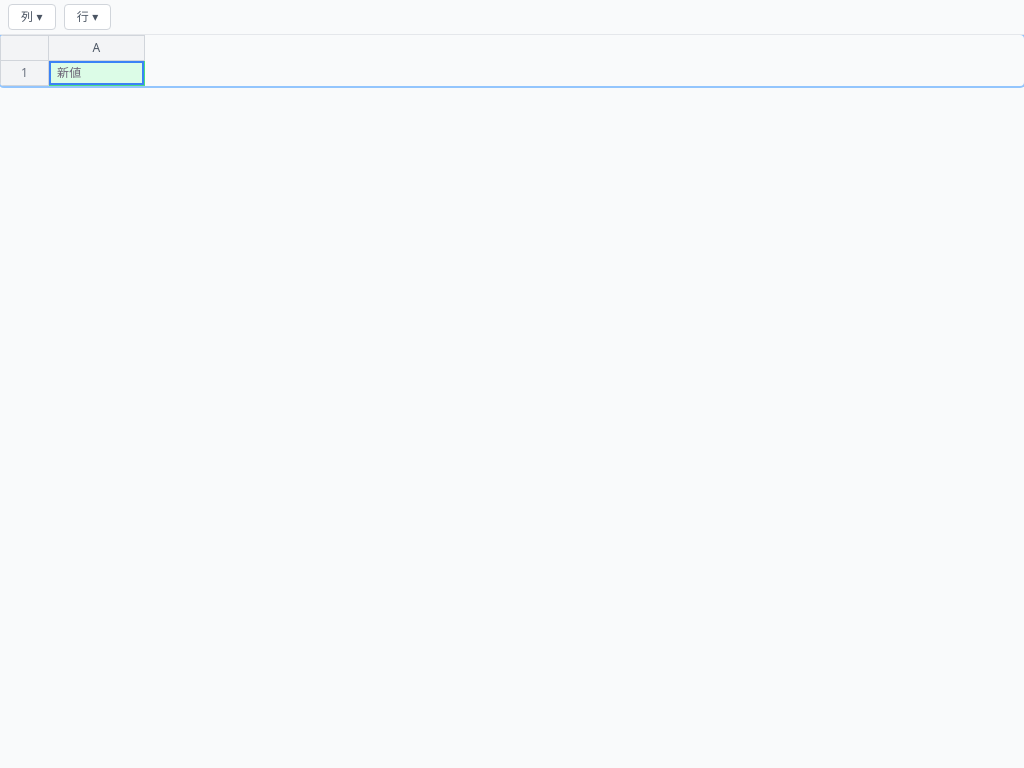
Test: B-032: 詳細モーダルのサイズ固定とセル表示の統一 › 2ファイル比較で Base と B の2セルが常に表示される（base_value が null でも）
This screenshot has width=1024, height=768.
What coordinates should you click on to do the following:
click the cell "新値"
I would click on:
 (96, 73)
Its box is x1=48 y1=60 x2=144 y2=86.
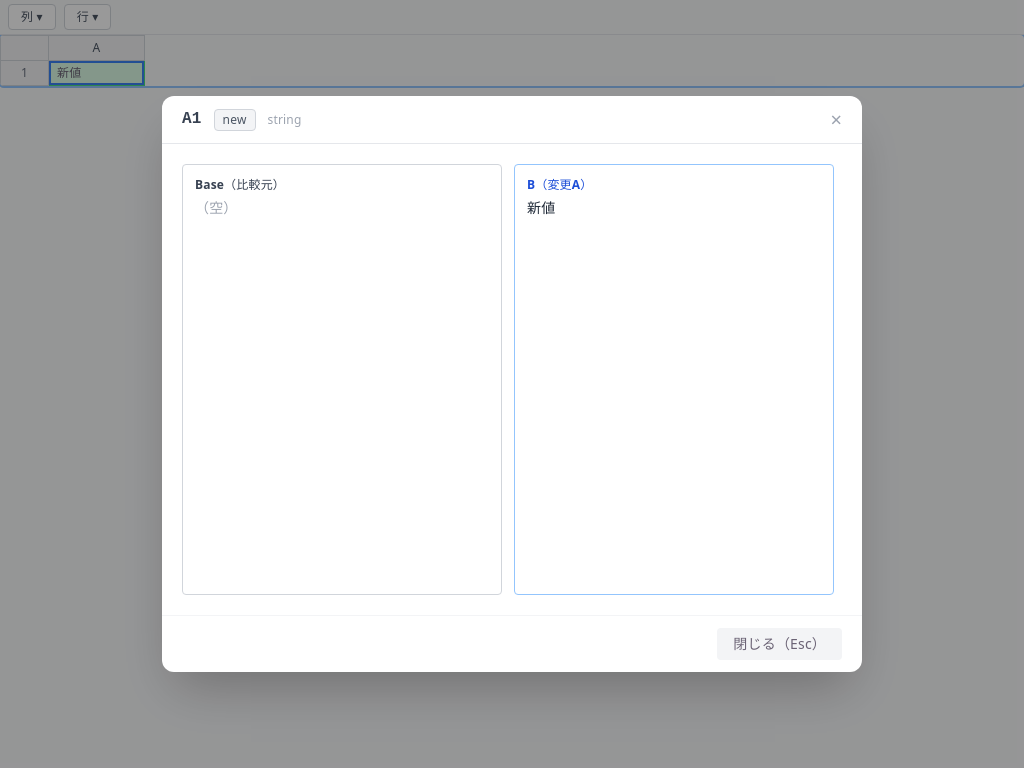
Check: the text "Base（比較元）" is shown, box x1=195 y1=176 x2=285 y2=193
Check: the text "B（変更A）" is shown, box x1=527 y1=176 x2=592 y2=193
Check: the text "（空）" is shown, box x1=195 y1=198 x2=238 y2=217
